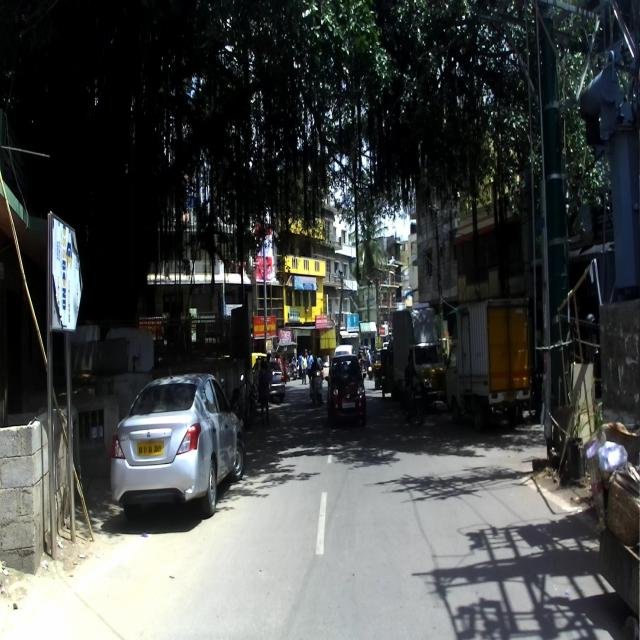car: (109, 361, 245, 518)
